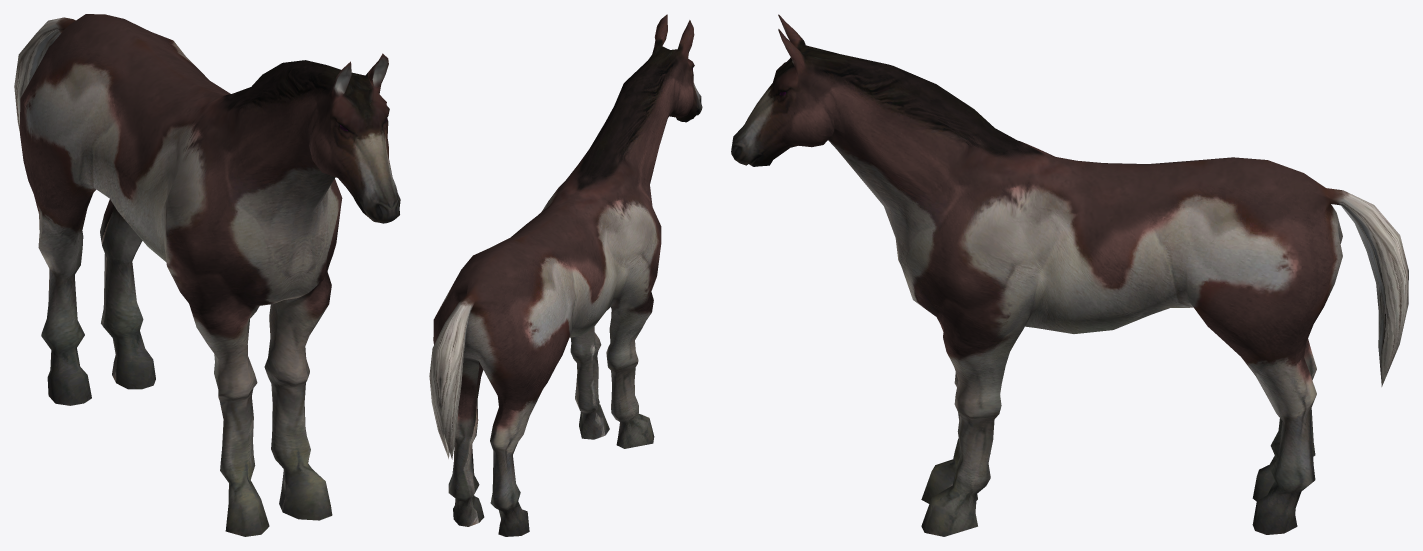
File: Horse1.glb
3 renders of one model, left to right at view 1: azimuth 30°, elevation 25°; view 2: azimuth 150°, elevation 25°; view 3: azimuth 270°, elevation 25°, orthographic. The views are drawn at different scales.
Visible parts, largest first — view 1: Horse1; view 2: Horse1; view 3: Horse1.
Part boxes in pixels (x1,y1,x2,y2): Horse1: [14, 14, 400, 536]; Horse1: [429, 14, 702, 536]; Horse1: [731, 14, 1408, 536].
Bounding box in the file's own units: 0.6161 × 1.93 × 2.41.
1 material, 1 textured.
